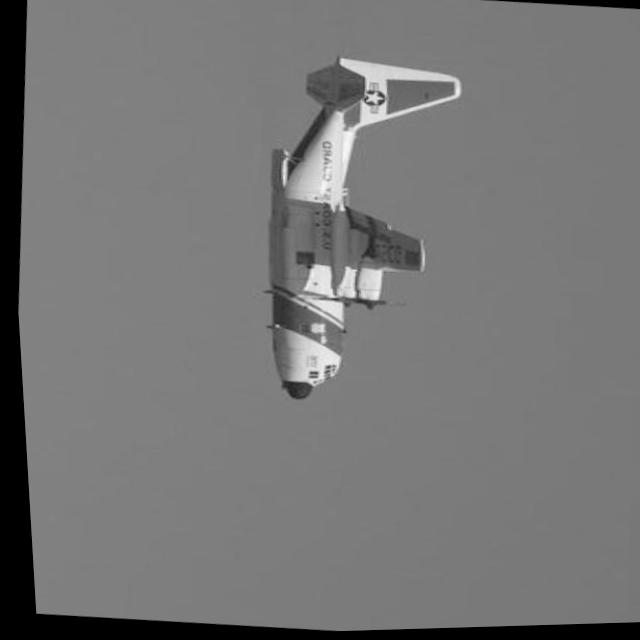aeroplane: (232, 40, 489, 425)
